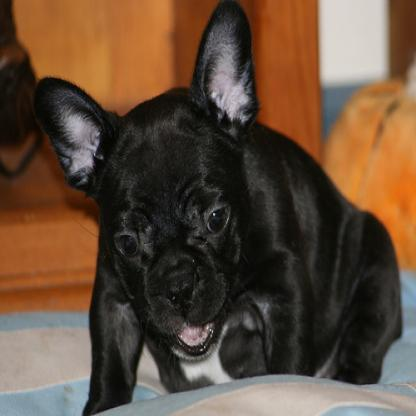French_bulldog: (32, 0, 402, 414)
